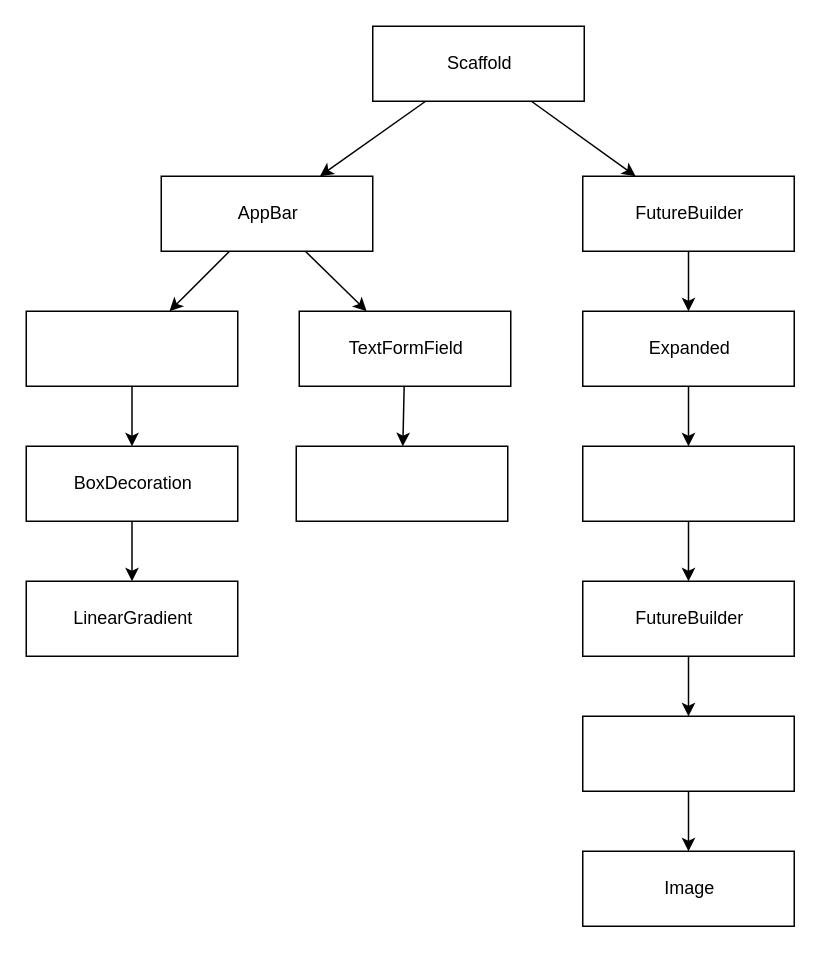
The diagram is 821 pixels wide and 953 high, and some of its shapes have lost their labels. Each missing label, with the box of its shape:
Container: (25, 310, 238, 386)
GridView: (581, 445, 794, 521)
InputDecoration: (295, 445, 508, 521)
ListTile: (581, 715, 794, 791)
